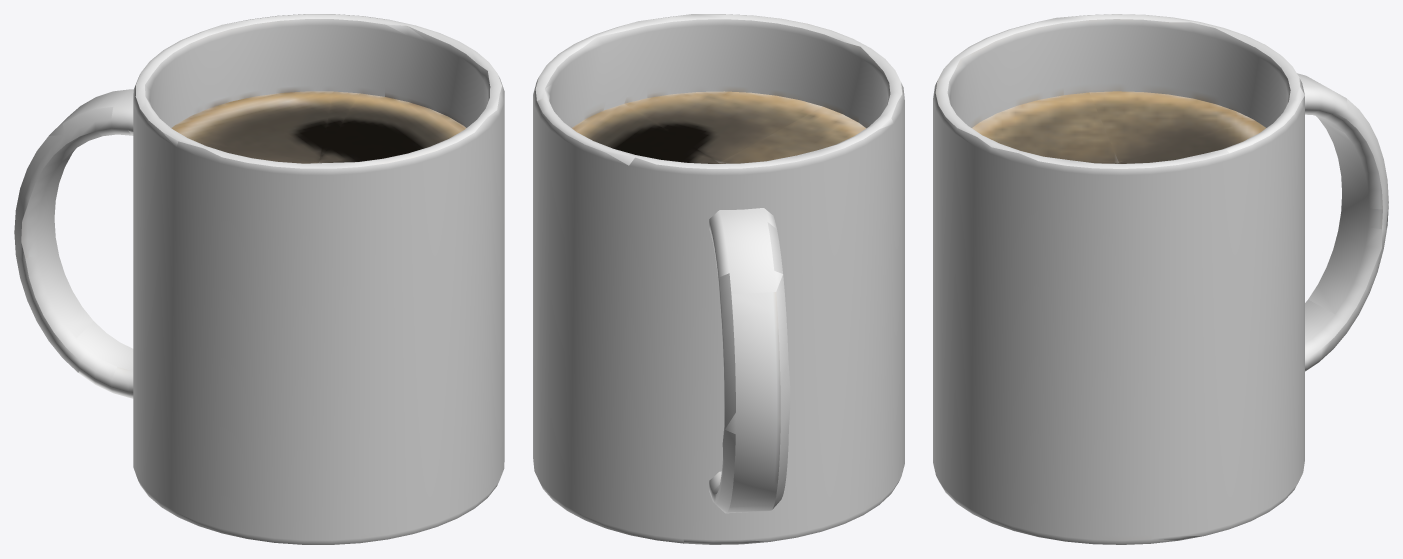
The model's file is room_mug.glb.
3 renders of one model, left to right at view 1: azimuth 30°, elevation 25°; view 2: azimuth 150°, elevation 25°; view 3: azimuth 270°, elevation 25°, orthographic.
Visible parts, largest first — view 1: mesh; view 2: mesh; view 3: mesh.
Part boxes in pixels (x1,y1,x2,y2): mesh: (14, 14, 504, 544); mesh: (533, 14, 904, 544); mesh: (933, 14, 1388, 544).
Size of the model in its own units: 0.0874 by 0.092 by 0.0998.
1 material, 1 textured.
